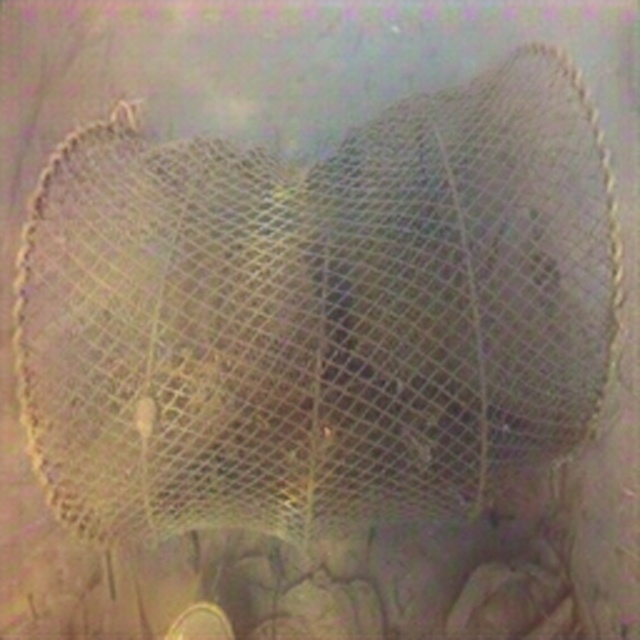mine: (12, 36, 625, 548)
